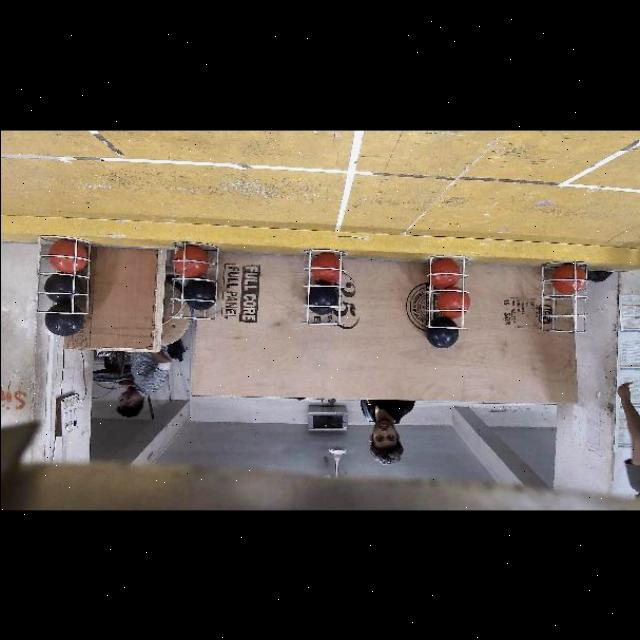P: (44, 302, 83, 336), (41, 274, 80, 304), (425, 316, 458, 348), (307, 282, 339, 314), (185, 280, 218, 308)
R: (48, 240, 86, 272), (432, 257, 464, 291), (175, 247, 208, 276), (312, 252, 342, 282), (546, 265, 578, 293), (439, 288, 469, 316)
S: (34, 232, 94, 324), (420, 251, 478, 339), (164, 238, 222, 326), (537, 253, 589, 337), (304, 248, 342, 328)
